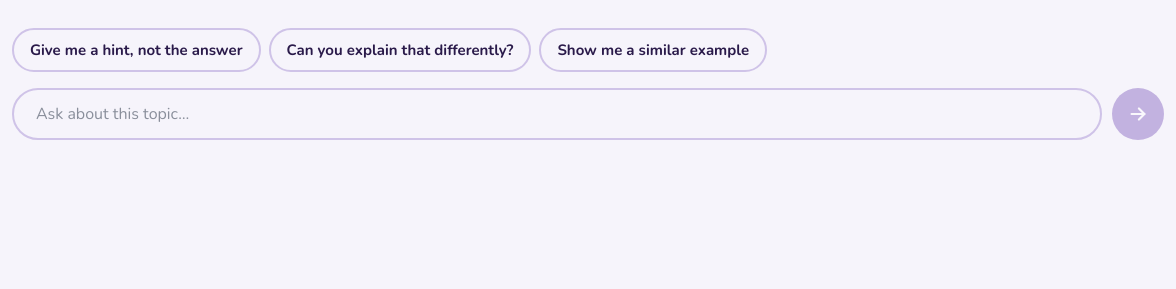
Test: TutorChat › strips markdown images from the tutor's answer instead of rendering them
Type "show me a diagram" into the field with placeholder "Ask about this topic…" at {"x": 557, "y": 114}, box [12, 88, 1102, 140]
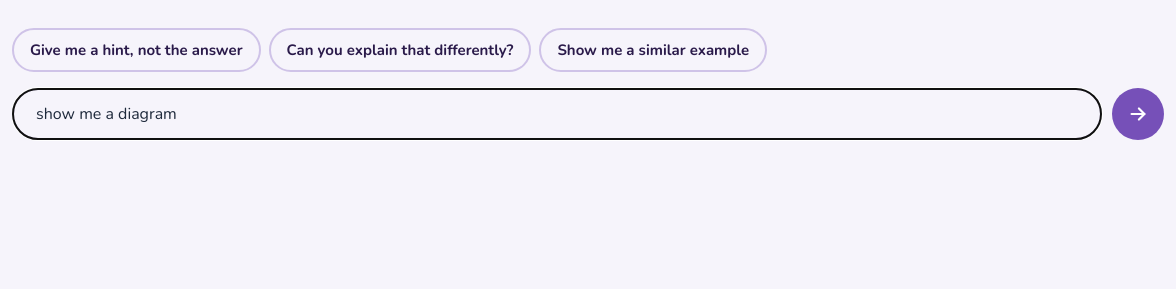
Click the button named "send" at {"x": 1138, "y": 114}, box [1112, 88, 1164, 140]
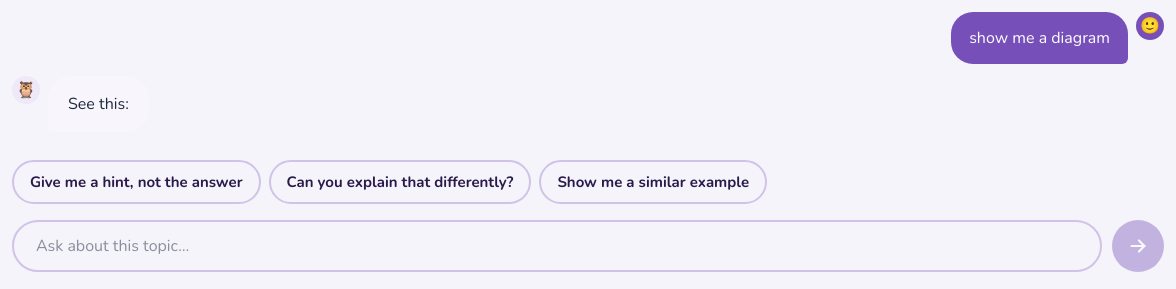
Check: the element with test id "tutor-chat-tutor-message" reads "See this:", box [68, 93, 129, 115]
